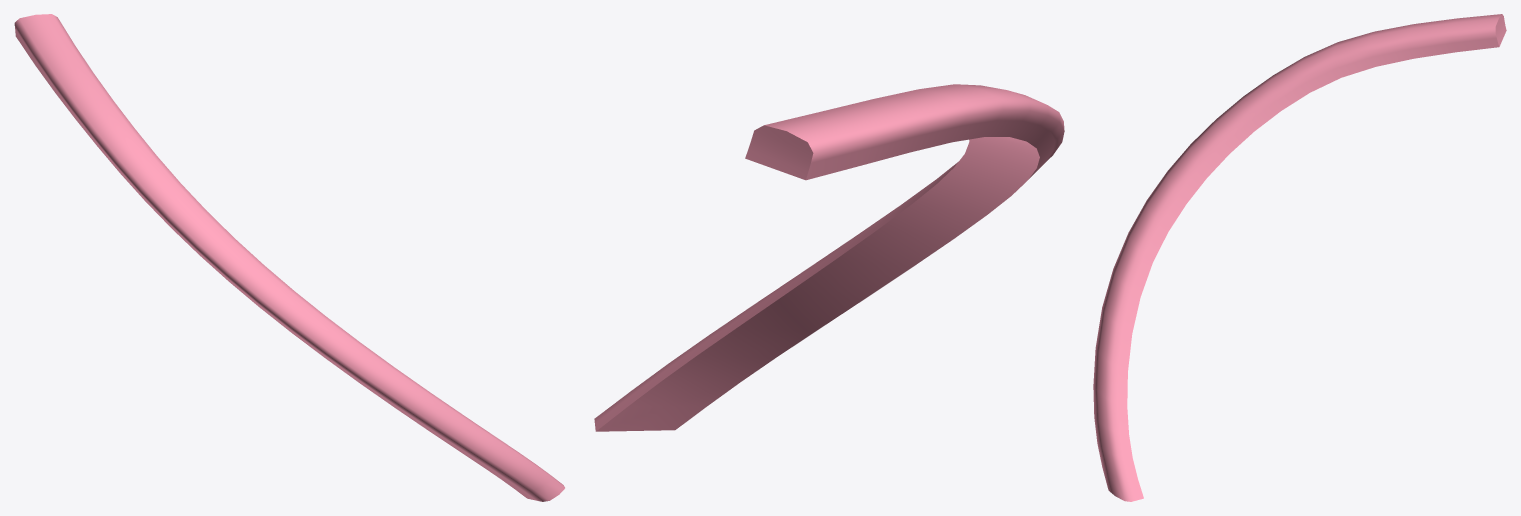
3 renders of one model, left to right at view 1: azimuth 30°, elevation 25°; view 2: azimuth 150°, elevation 25°; view 3: azimuth 270°, elevation 25°, orthographic. The views are drawn at different scales.
Parts seen in each view (by area): view 1: Plane365; view 2: Plane365; view 3: Plane365.
Boxes of the visible parts, bbox=[...] form: Plane365: bbox=[14, 14, 564, 501]; Plane365: bbox=[594, 84, 1064, 431]; Plane365: bbox=[1093, 14, 1506, 501].
Size of the model in its own units: 0.2088 by 0.2236 by 0.2415.
